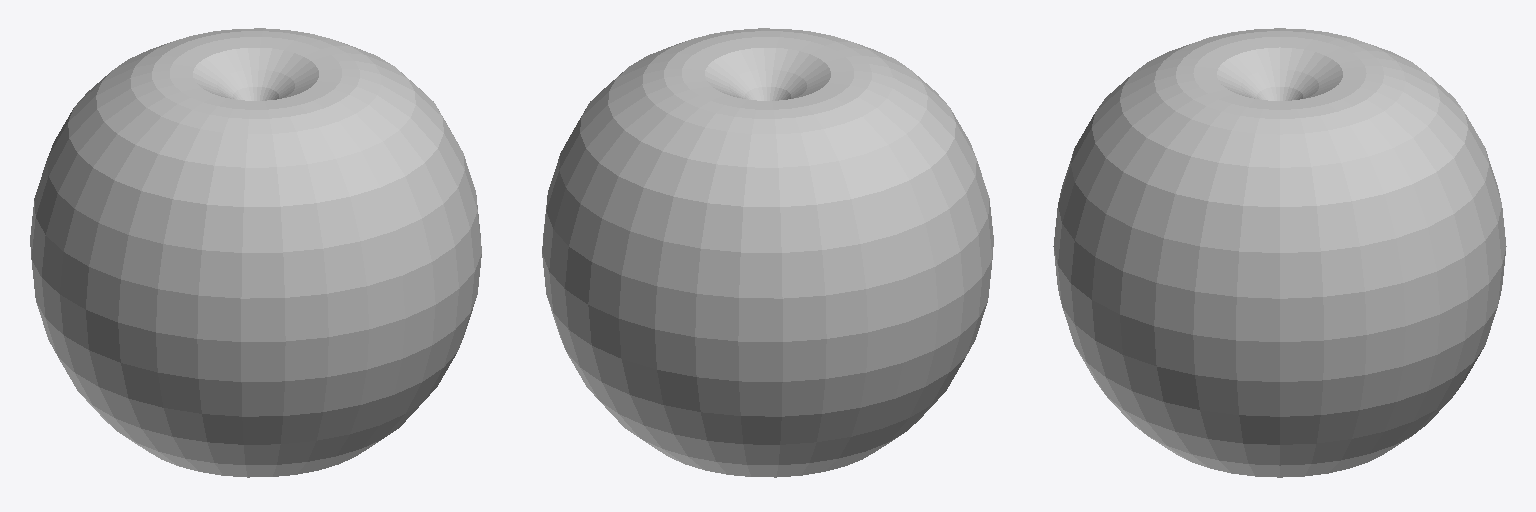
File: apple.obj
The picture shows the model from 3 angles: view 1: azimuth 30°, elevation 25°; view 2: azimuth 150°, elevation 25°; view 3: azimuth 270°, elevation 25°; orthographic projection.
Visible parts, largest first — view 1: Sphere_Sphere.001; view 2: Sphere_Sphere.001; view 3: Sphere_Sphere.001.
Part boxes in pixels (bbox=[...]): Sphere_Sphere.001: bbox=[30, 28, 481, 477]; Sphere_Sphere.001: bbox=[542, 28, 993, 477]; Sphere_Sphere.001: bbox=[1053, 28, 1506, 477].
Bounding box in the file's own units: 1.92 × 1.71 × 1.92.